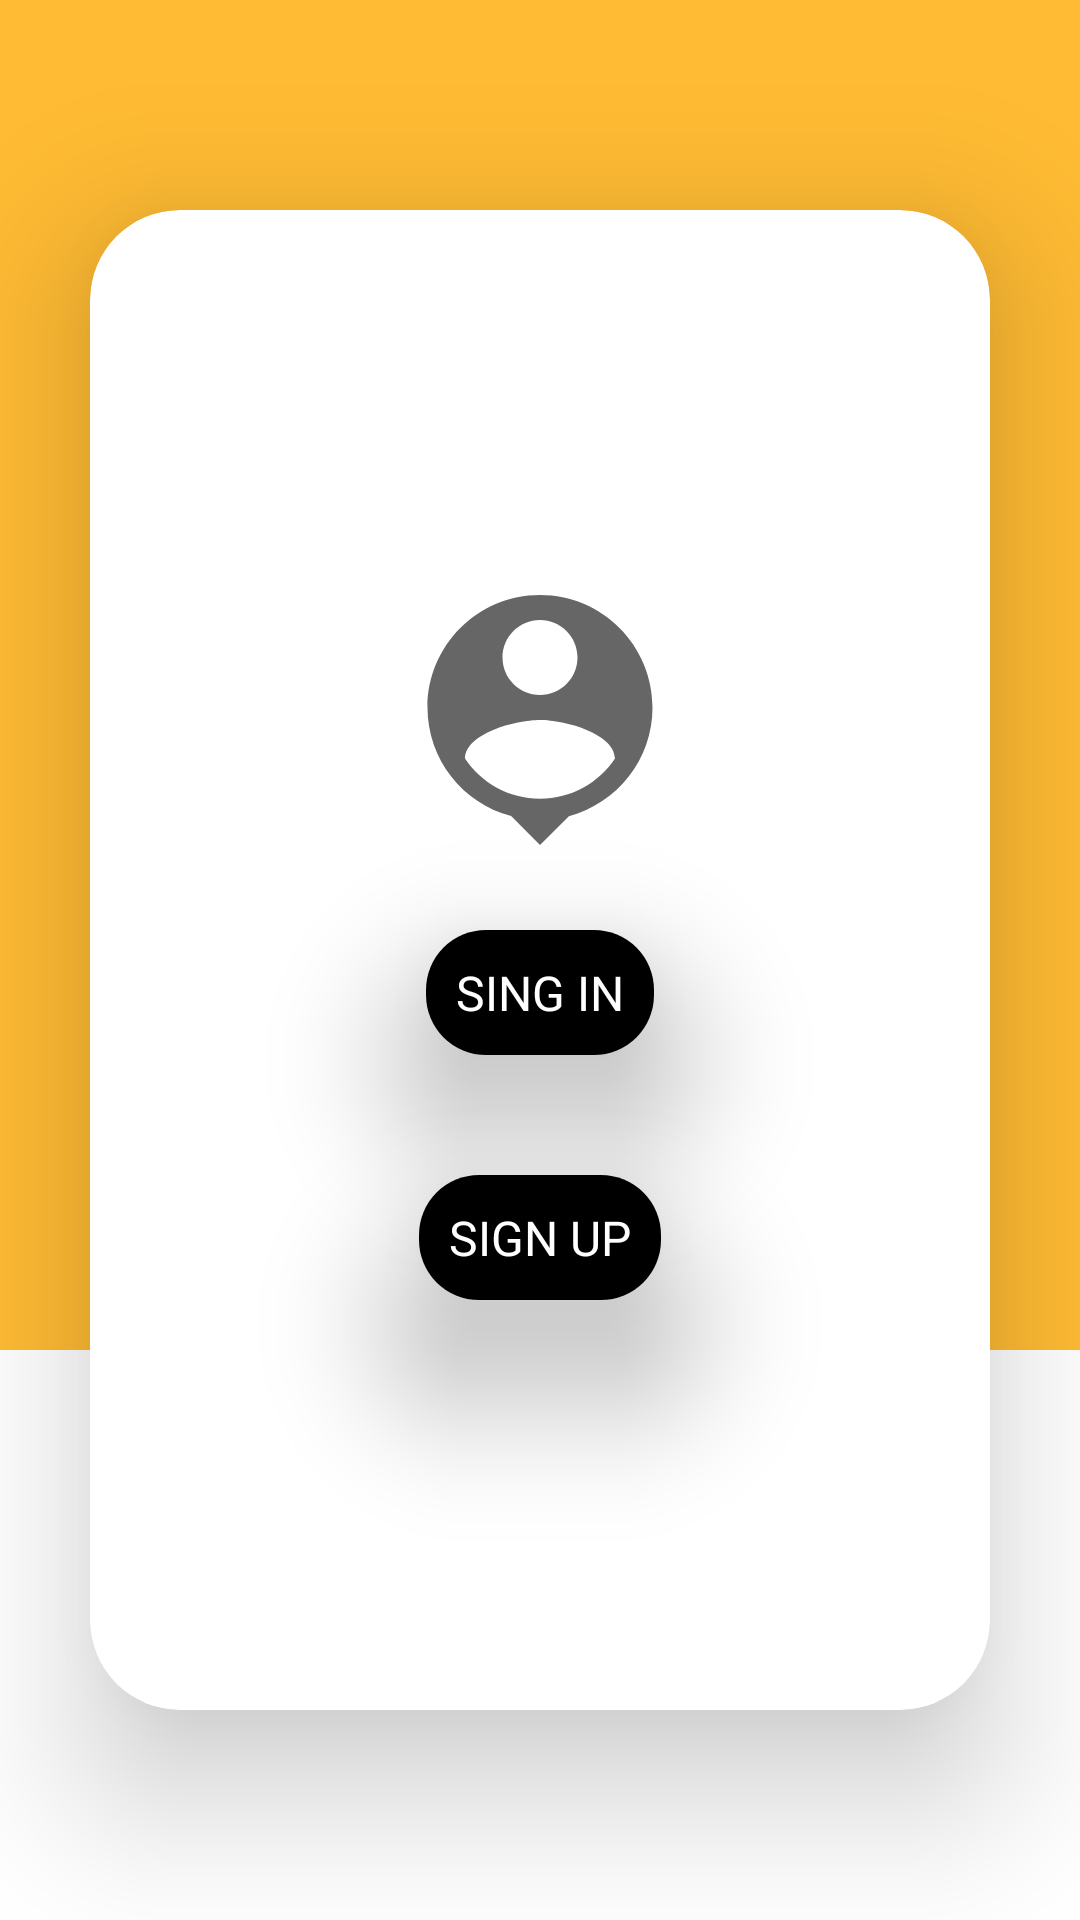

Where to tap for icons on this 1080px×1920px app screen, as point (x, y):
person pin: point (540, 720)
